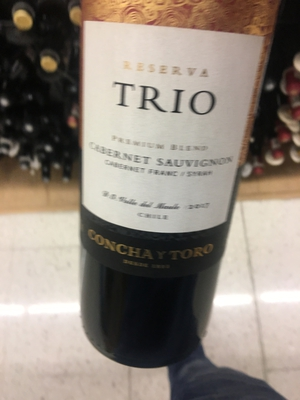trio cabernet sauvignon: (64, 3, 272, 374)
